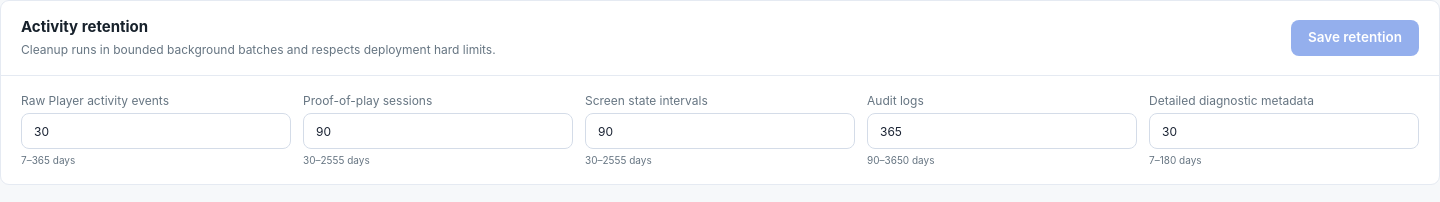
Test: ActivityRetentionPanel › refuses to save a value outside its bounds
Replace the text in the number field labelled "Audit logs 90–3650 days" with "5" at x=1002, y=131, box 867,113 -> 1137,149
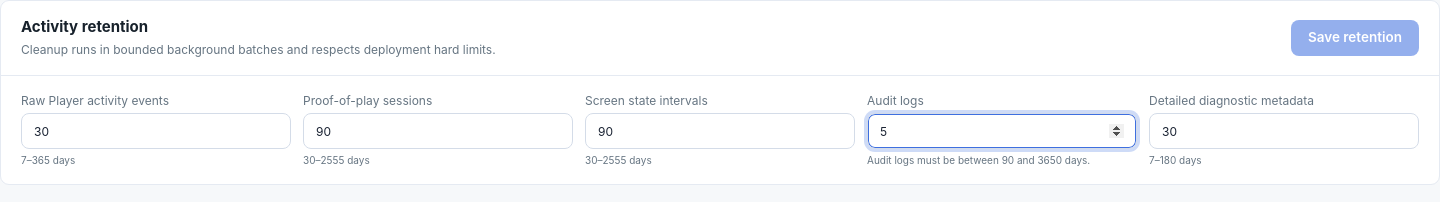
Check: the button "Save retention" is disabled, box 1291,20 -> 1419,56
Check: the text "Audit logs must be between 90 and 3650 days." is shown, box 867,154 -> 1090,166
